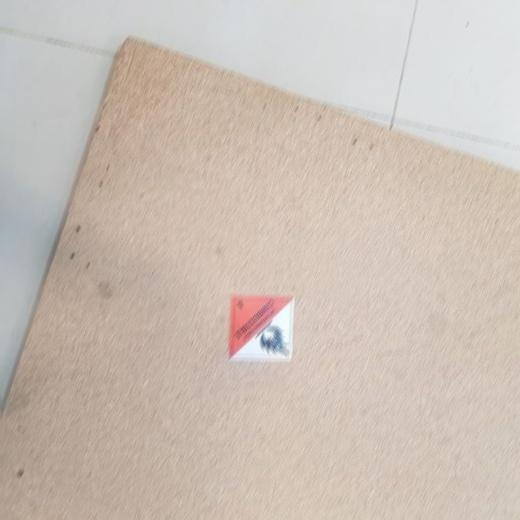spontaneously-combustible: (227, 295, 293, 359)
